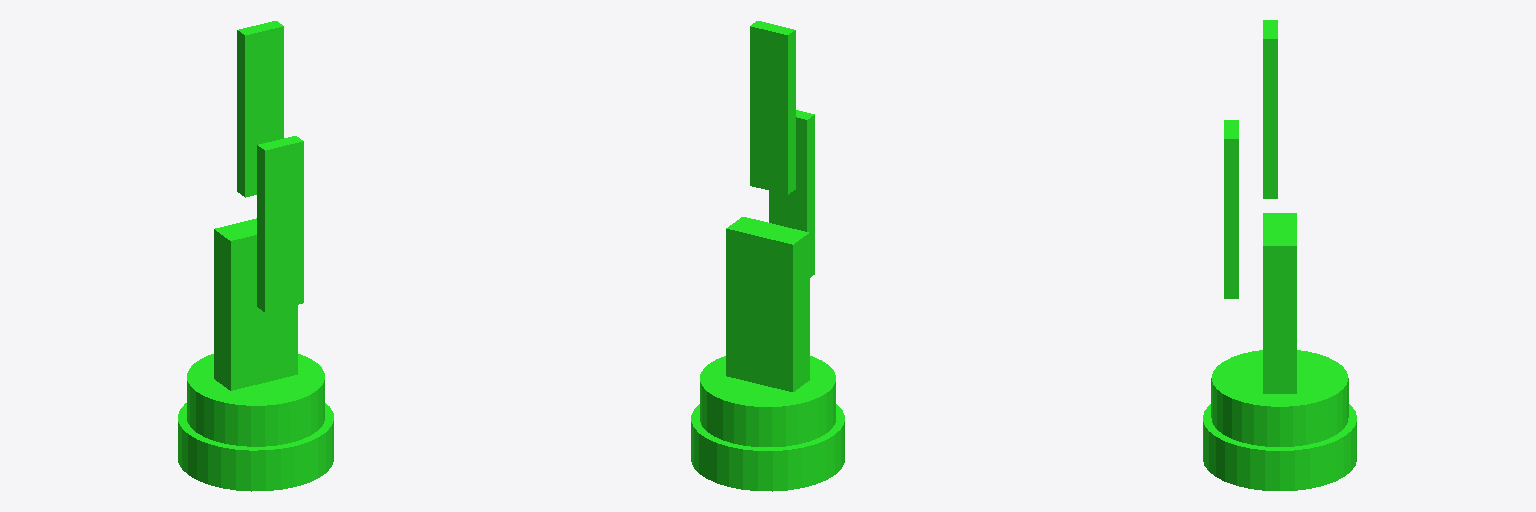
URDF robot description (robot):
<robot name="robot">
  <!-- -->
  <!--<robot xmlns:xacro="http://www.ros.org/wiki/xacro" name="robot_arm">-->
  <!--<xacro:include filename="robot_arm_include.xacro"/>-->
  <!-- links and joints -->
  <!-- because rootlink should not have inertia -->
  <link name="dummy_link"></link>
  <joint name="dummy_joint" type="fixed">
    <origin rpy="0 0 0" xyz="0 0 0"/>
    <parent link="dummy_link"/>
    <child link="bottom_base_link"/>
  </joint>
  <!-- empty because it is anchorpoint for world -->

  <link name="bottom_base_link">
    <visual>
      <origin rpy="0 0 0" xyz="0 0 0.505"/>
      <geometry>
        <cylinder length="1.01" radius="1.75"/>
      </geometry>
      <material name="green">
        <color rgba="0.2 1 0.2 1"/>
      </material>
    </visual>
    <collision>
      <origin rpy="0 0 0" xyz="0 0 1.01"/>
      <geometry>
        <cylinder length="2.02" radius="1.75"/>
      </geometry>
    </collision>
    <!-- I have not changed the matrix yet-->
    <!-- I have not changed the mass yet-->
    <inertial>
      <origin rpy="0 0 0" xyz="0 0 0.05"/>
      <mass value="12"/>
      <inertia ixx="2.26" ixy="0.0" ixz="0.0" iyy="6.26" iyz="0.0" izz="8.6"/>
    </inertial>

  </link>
  <joint name="base_joint" type="revolute">
    <origin rpy="0 0 0" xyz="0 0 1.01"/>
    <parent link="bottom_base_link"/>
    <child link="top_base_link"/>
    <axis xyz="0 0 1"/>
    <limit effort="100" lower="0" upper="3.14" velocity="100"/>
  </joint>
  <link name="top_base_link">
    <visual>
      <origin rpy="0 0 0" xyz="0 0 0.505"/>
      <geometry>
        <cylinder length="1.01" radius="1.55"/>
      </geometry>
      <material name="green">
        <color rgba="0.2 1 0.2 1"/>
      </material>
    </visual>
    <collision>
      <origin rpy="0 0 0" xyz="0 0 0.505"/>
      <geometry>
        <cylinder length="2.02" radius="1.55"/>
      </geometry>
    </collision>
    <!-- I have not changed the matrix yet-->
    <!-- I have not changed the mass yet-->
    
    <inertial>
      <origin rpy="0 0 0" xyz="0 0 0.05"/>
    
      <mass value="12"/>
      
      <inertia ixx="2.26" ixy="0.0" ixz="0.0" iyy="6.26" iyz="0.0" izz="8.6"/>
    </inertial>
    
  </link>
  <!-- arm segment 1 -->
  <joint name="arm_segment_1" type="fixed">
    <origin rpy="0 0 0" xyz="0 0 1.01"/>
    <parent link="top_base_link"/>
    <child link="arm_segment_1_link"/>
  </joint>
  <link name="arm_segment_1_link">
    <visual>
      <origin rpy="0 0 0" xyz="0 0 1.7"/>
      <geometry>
        <box size="1.75 0.75 4"/>
      </geometry>
      <material name="green">
        <color rgba="0.2 1 0.2 1"/>
      </material>
    </visual>
    <collision>
      <origin rpy="0 0 0" xyz="0 0 1.7"/>
      <geometry>
        <box size="1.75 0.75 4"/>
      </geometry>
    </collision>
    <!-- I have not changed the matrix yet-->
    <!-- I have not changed the mass yet-->
    
    <inertial>
      <origin rpy="0 0 0" xyz="0 0 0.05"/>
    
      <mass value="12"/>
      
      <inertia ixx="2.26" ixy="0.0" ixz="0.0" iyy="6.26" iyz="0.0" izz="8.6"/>
    </inertial>
    
  </link>
  <!-- arm segment 2 -->
  <joint name="arm_segment_2" type="revolute">
    <origin rpy="0 0 0" xyz="0 -0.375 3.21"/>
    <parent link="arm_segment_1_link"/>
    <child link="arm_segment_2_link"/>
    <axis xyz="0 1 0"/>
    <limit effort="100" lower="0" upper="3.14" velocity="100"/>
  </joint>
  <link name="arm_segment_2_link">
    <visual>
      <!-- .55 is gap of between links + .175 is half of the width of the arm segment 2-->
      <origin rpy="0 0 0" xyz="0 -0.725 1"/>
      <geometry>
        <box size="1 0.35 4"/>
      </geometry>
      <material name="green">
        <color rgba="0.2 1 0.2 1"/>
      </material>
    </visual>
    <collision>
      <origin rpy="0 0 0" xyz="0 -0.725 1"/>
      <geometry>
        <box size="1 0.35 4"/>
      </geometry>
    </collision>
    <!-- I have not changed the mass yet-->
    <!-- I have not changed the matrix yet-->
    
    <inertial>
      <origin rpy="0 0 0" xyz="0 -0.725 1"/>

      <mass value="12"/>

      <inertia ixx="2.26" ixy="0.0" ixz="0.0" iyy="6.26" iyz="0.0" izz="8.6"/>
    </inertial>
    
  </link>
  <!-- arm segment 3 -->
  <joint name="arm_segment_3" type="revolute">
    <origin rpy="0 0 0" xyz="0 -0.55 2.48"/>
    <parent link="arm_segment_2_link"/>
    <child link="arm_segment_3_link"/>
    <axis xyz="0 1 0"/>
    <limit effort="100" lower="0" upper="3.14" velocity="100"/>
  </joint>
  <link name="arm_segment_3_link">
    <visual>
      <origin rpy="0 0 0" xyz="0 0.715 1"/>
      <geometry>
        <box size="1 0.35 4"/>
      </geometry>
      <material name="green">
        <color rgba="0.2 1 0.2 1"/>
      </material>
    </visual>
    <collision>
      <origin rpy="0 0 0" xyz="0 0.715 1"/>
      <geometry>
        <box size="1 0.35 4"/>
      </geometry>
    </collision>
    <!-- I have not changed the matrix yet-->
    <!-- I have not changed the mass yet-->
    
    <inertial>
      <origin rpy="0 0 0" xyz="0 0.715 1"/>

      <mass value="12"/>

      <inertia ixx="2.26" ixy="0.0" ixz="0.0" iyy="6.26" iyz="0.0" izz="8.6"/>
    </inertial>
    
  </link>
  <!-- end of arm -->
  <joint name="end_of_arm" type="fixed">
    <origin rpy="0 0 0" xyz="0 0.715 2.48"/>
    <parent link="arm_segment_3_link"/>
    <child link="end_of_arm_tool_link"/>
  </joint>
  <link name="end_of_arm_tool_link">
    <visual>
      <origin rpy="0 0 0" xyz="0 0 0"/>
      <geometry>
        <box size="0 0 0"/>
      </geometry>
      <material name="green">
        <color rgba="0.2 1 0.2 1"/>
      </material>
    </visual>
    <collision>
      <origin rpy="0 0 0" xyz="0 0 0"/>
      <geometry>
        <box size="0 0 0"/>
      </geometry>
    </collision>
    <!-- I have not changed the mass yet-->
    <!-- I have not changed the matrix yet-->
    
    <inertial>

      <origin rpy="0 0 0" xyz="0 0 0"/>

      <mass value="12"/>

      <inertia ixx="2.26" ixy="0.0" ixz="0.0" iyy="6.26" iyz="0.0" izz="8.6"/>
    </inertial>
    
  </link>
  <gazebo reference="bottom_base_link">
      <material>Gazebo/Green</material>
  </gazebo>

  <gazebo reference="top_base_link">
      <material>Gazebo/Green</material>
  </gazebo>
  
  <gazebo reference="arm_segment_1_link">
      <material>Gazebo/Green</material>
  </gazebo>

  <gazebo reference="arm_segment_2_link">
      <material>Gazebo/Green</material>
  </gazebo>

  <gazebo reference="arm_segment_3_link">
      <material>Gazebo/Green</material>
  </gazebo>

  <!-- make gazebo control robot -->

  <!-- <gazebo>
    <plugin name="gazebo_ros_joint_state_publisher" filename = "gazebo_ros_joint_state_publisher.so">
      <updateRate>20</updateRate>
      <jointName>base_joint, arm_segment_2, arm_segment_3</jointName>
      <alwaysOn>true</alwaysOn>
    </plugin>
  </gazebo> -->


  <!--camera-->
  <joint name="camera_optical_joint" type="fixed">
    <origin rpy="1.571 -1.571 -1.571" xyz="-1 0 -0.3"/>
    <parent link="end_of_arm_tool_link"/>
    <child link="camera_link_optical"/>
  </joint>
  <link name="camera_link_optical"></link>
  
  <gazebo reference="camera_link_optical">
    <!-- changed sensor type from depth to camera -->
    <sensor type="camera" name="my_camera">
      <update_rate>20</update_rate>
      <visualize>true</visualize>
      <camera name="cam">
        <horizontal_fov>1.3962634</horizontal_fov>
      <image>
          <width>640</width>
          <height>480</height>
          <format>R8B8G8</format>
        </image>
        <clip>
          <near>0.02</near>
          <far>300</far>
        </clip>
        <noise>
          <type>gaussian</type>
          <mean>0.0</mean>
          <stddev>0.007</stddev>
        </noise>
      </camera>
      <plugin name="camera_controller" filename="gazebo_ros_camera.so">
        <alwaysOn>true</alwaysOn>
        <frameName>camera_link_optical</frameName>
        <minDepth>0.1</minDepth>
        <maxDepth>500</maxDepth>
      </plugin>
    </sensor>
  </gazebo>
  <gazebo>
    <plugin name="gazebo_ros_control" filename="gazebo_ros_control.so">
      <robotNamespace>/</robotNamespace>
    </plugin>
  </gazebo>
  <transmission name="tran1">
    <type>transmission_interface/SimpleTransmission</type>
    <joint name="base_joint">
      <hardwareInterface>PositionJointInterface</hardwareInterface>
    </joint>
    <actuator name="motor1">
      <mechanicalReduction>1</mechanicalReduction>
      <hardwareInterface>PositionJointInterface</hardwareInterface>
    </actuator>
  </transmission>

  <transmission name="tran2">
    <type>transmission_interface/SimpleTransmission</type>
    <joint name="arm_segment_2">
      <hardwareInterface>hardware_interface/PositionJointInterface</hardwareInterface>
    </joint>
    <actuator name="motor2">
      <mechanicalReduction>1</mechanicalReduction>
      <hardwareInterface>hardware_interface/PositionJointInterface</hardwareInterface>
    </actuator>
  </transmission>

  <transmission name="tran3">
    <type>transmission_interface/SimpleTransmission</type>
    <joint name="arm_segment_3">
      <hardwareInterface>hardware_interface/PositionJointInterface</hardwareInterface>
    </joint>
    <actuator name="motor3">
      <mechanicalReduction>1</mechanicalReduction>
      <hardwareInterface>hardware_interface/PositionJointInterface</hardwareInterface>
    </actuator>
  </transmission>
</robot>

--- Facts derived from the render (not from the file) ---
Views: 3 orthographic renders of the robot side by side, from view 1: azimuth 30°, elevation 25°; view 2: azimuth 150°, elevation 25°; view 3: azimuth 270°, elevation 25°.
Model robot with 8 links and 7 joints (3 revolute, 4 fixed), rooted at dummy_link, posed every joint at zero.
Visible links, largest first — view 1: arm_segment_1_link, top_base_link, arm_segment_2_link, bottom_base_link, arm_segment_3_link; view 2: arm_segment_1_link, top_base_link, arm_segment_3_link, bottom_base_link, arm_segment_2_link; view 3: top_base_link, bottom_base_link, arm_segment_1_link, arm_segment_2_link, arm_segment_3_link.
Boxes of the visible links, x1,y1,x2,y2 form: arm_segment_1_link: (214, 218, 297, 390); top_base_link: (187, 354, 324, 446); arm_segment_2_link: (257, 136, 303, 312); bottom_base_link: (178, 403, 333, 491); arm_segment_3_link: (237, 21, 283, 197); arm_segment_1_link: (726, 217, 809, 391); top_base_link: (700, 356, 835, 446); arm_segment_3_link: (750, 21, 795, 194); bottom_base_link: (691, 404, 844, 491); arm_segment_2_link: (769, 110, 814, 277); top_base_link: (1211, 350, 1348, 446); bottom_base_link: (1203, 404, 1356, 490); arm_segment_1_link: (1263, 213, 1296, 393); arm_segment_2_link: (1224, 120, 1238, 298); arm_segment_3_link: (1263, 20, 1277, 198).
Size in the robot's own frame: 3.5 by 3.5 by 10.71 metres.
Geometry: primitives only (box / cylinder / sphere), no mesh files.